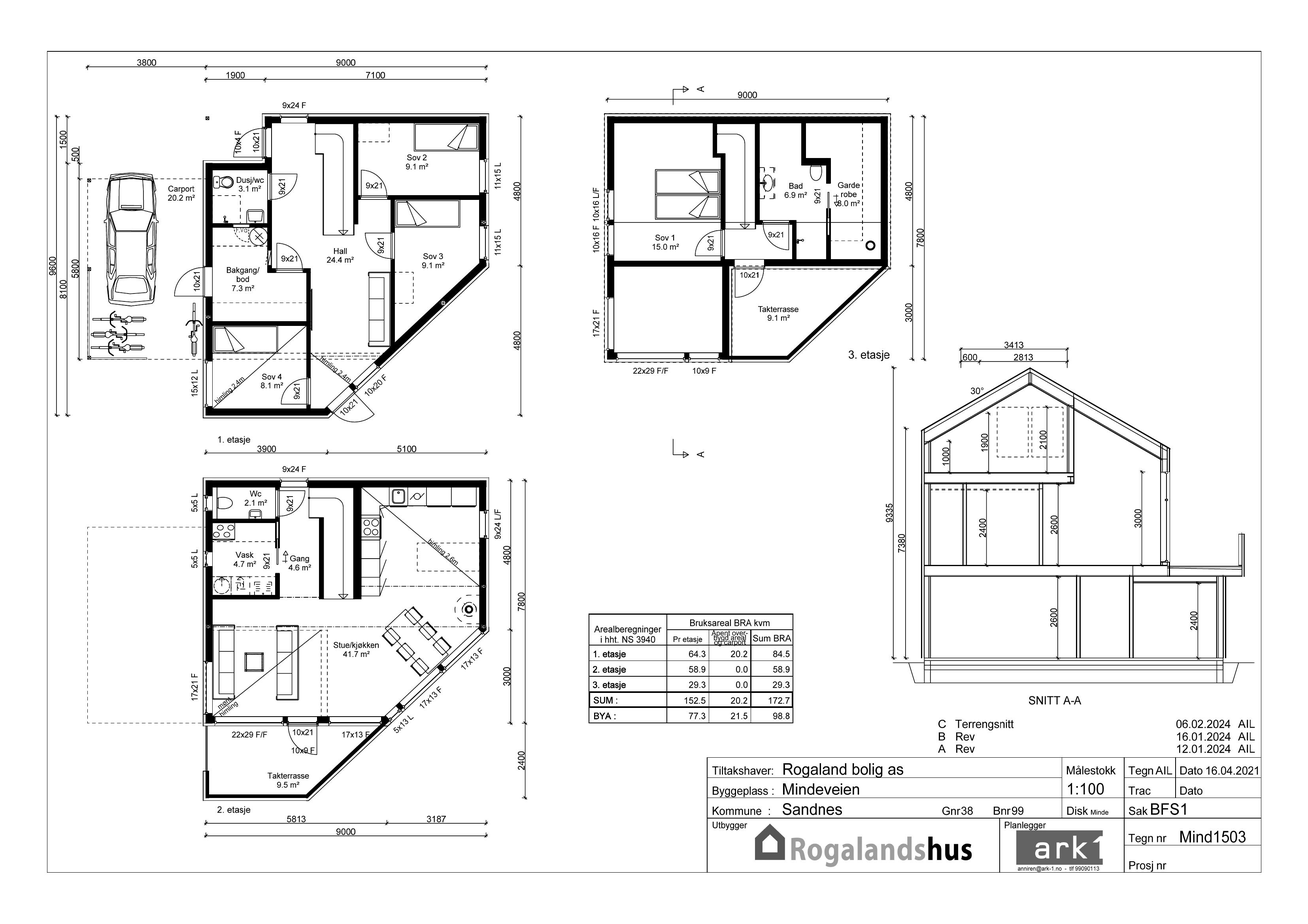plantegning: (85, 112, 491, 424), (201, 476, 491, 804), (602, 112, 893, 365)
snitt: (902, 366, 1249, 686)
